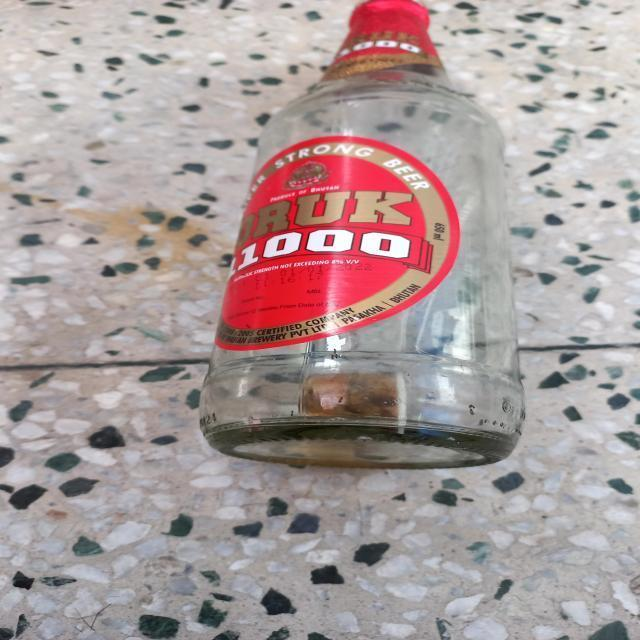Glass: (198, 0, 526, 469)
